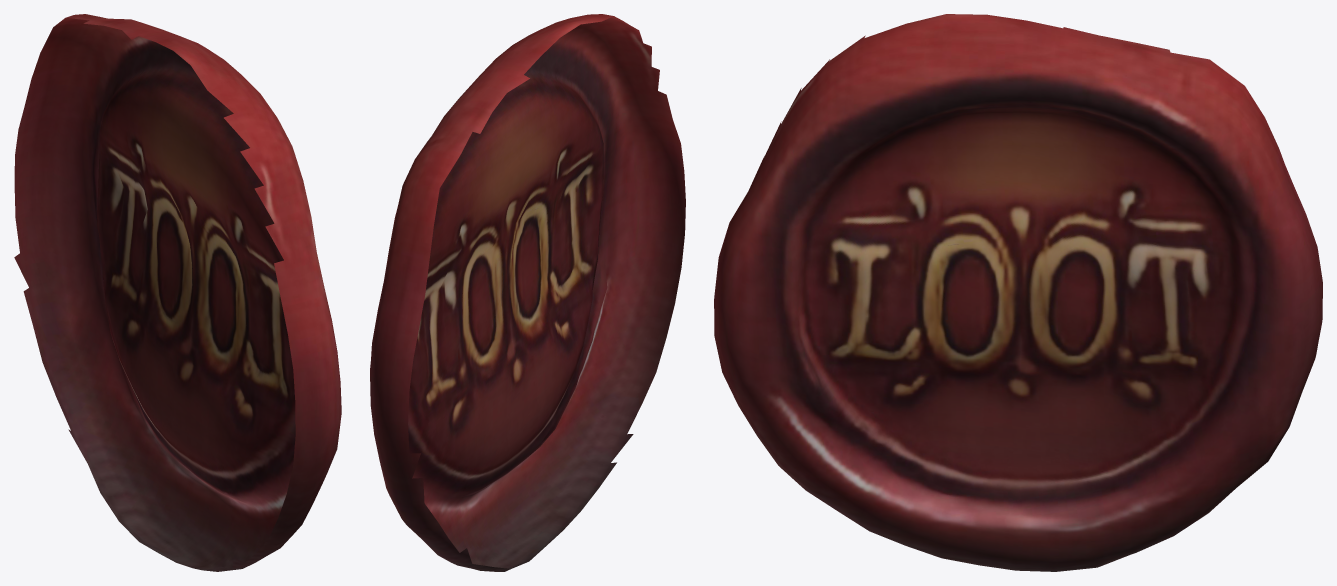
File: sealPerf2.glb
3 views of the same model, side by side, from view 1: azimuth 30°, elevation 25°; view 2: azimuth 150°, elevation 25°; view 3: azimuth 270°, elevation 25° (orthographic). The views are drawn at different scales.
Visible parts, largest first — view 1: mesh; view 2: mesh; view 3: mesh.
Part boxes in pixels (x1=…): mesh: x1=14, y1=14, x2=341, y2=571; mesh: x1=370, y1=14, x2=685, y2=571; mesh: x1=714, y1=14, x2=1322, y2=571.
Bounding box in the file's own units: 0.1316 × 0.9911 × 0.9985.
1 material, 1 textured.
